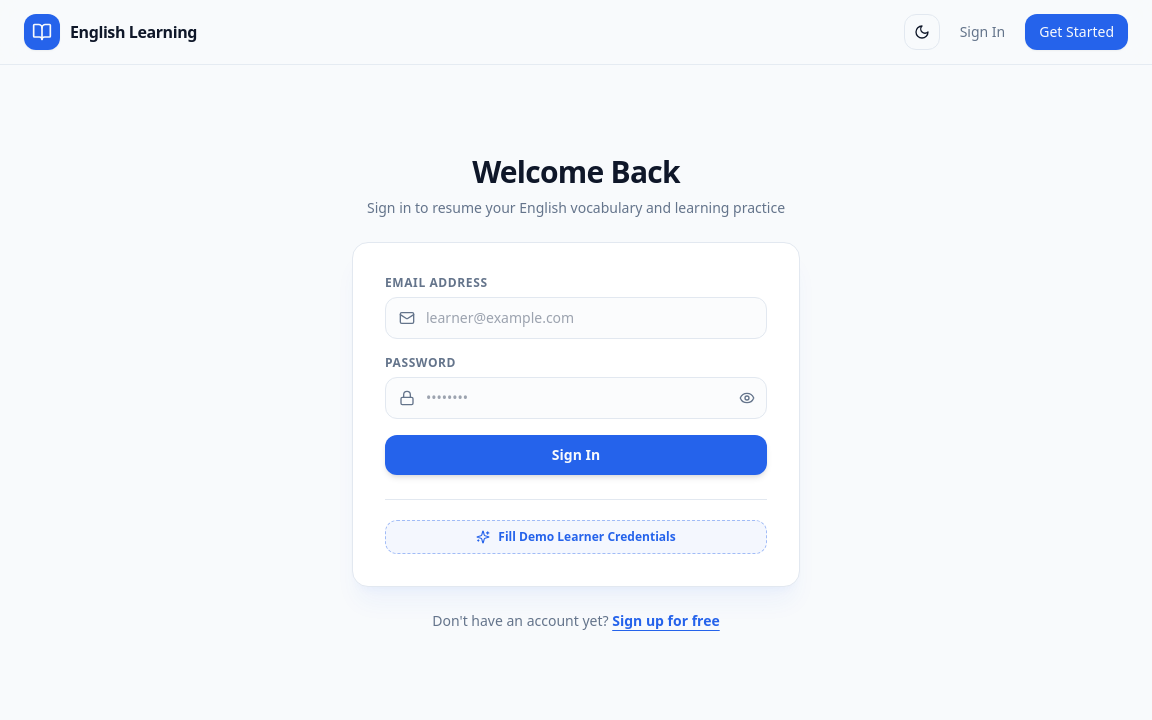
Frontend Authentication Tests › LoginPage Form Component › populates demo credentials when clicking demo button
Click the button "Fill Demo Learner Credentials". click: click(576, 537)
box: [385,520,767,554]
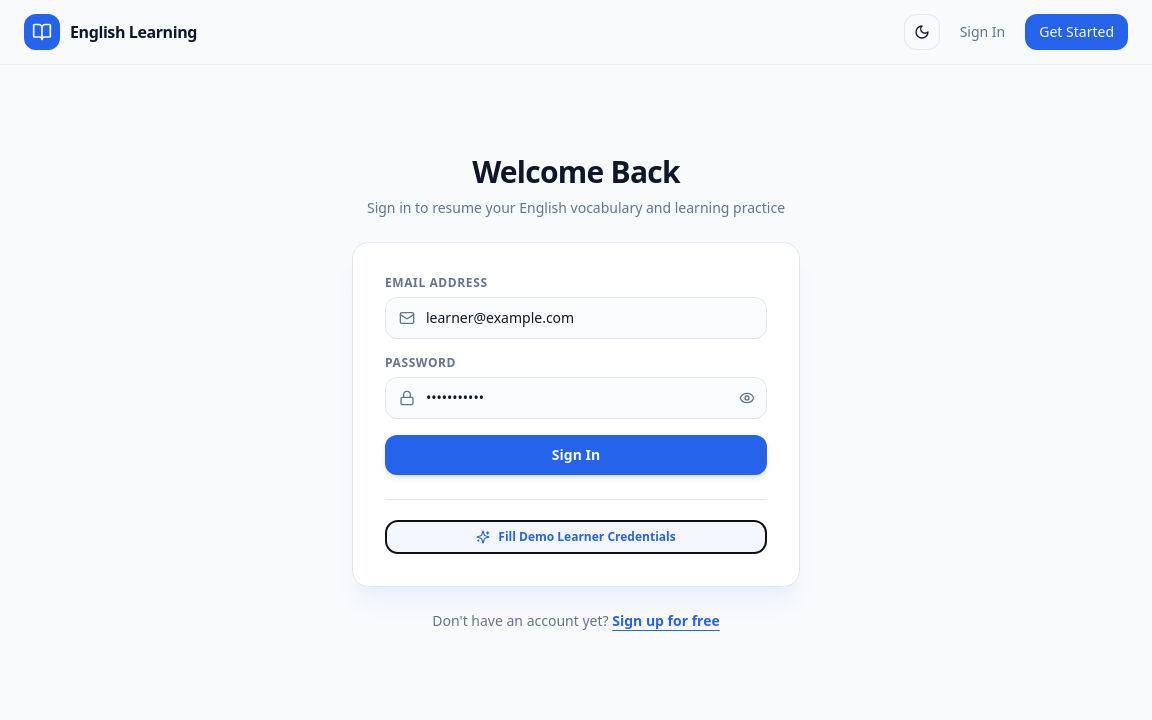
Expected: the field labelled "Email Address" holds "learner@example.com", [385,297,767,339]
Expected: the password field labelled "Password" holds "Learner123!", [385,377,767,419]
